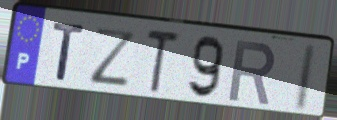9: (186, 35, 227, 100)
I: (290, 41, 319, 114)
R: (227, 37, 279, 107)
T: (144, 27, 182, 95), (50, 21, 88, 84)
Z: (90, 25, 140, 89)
